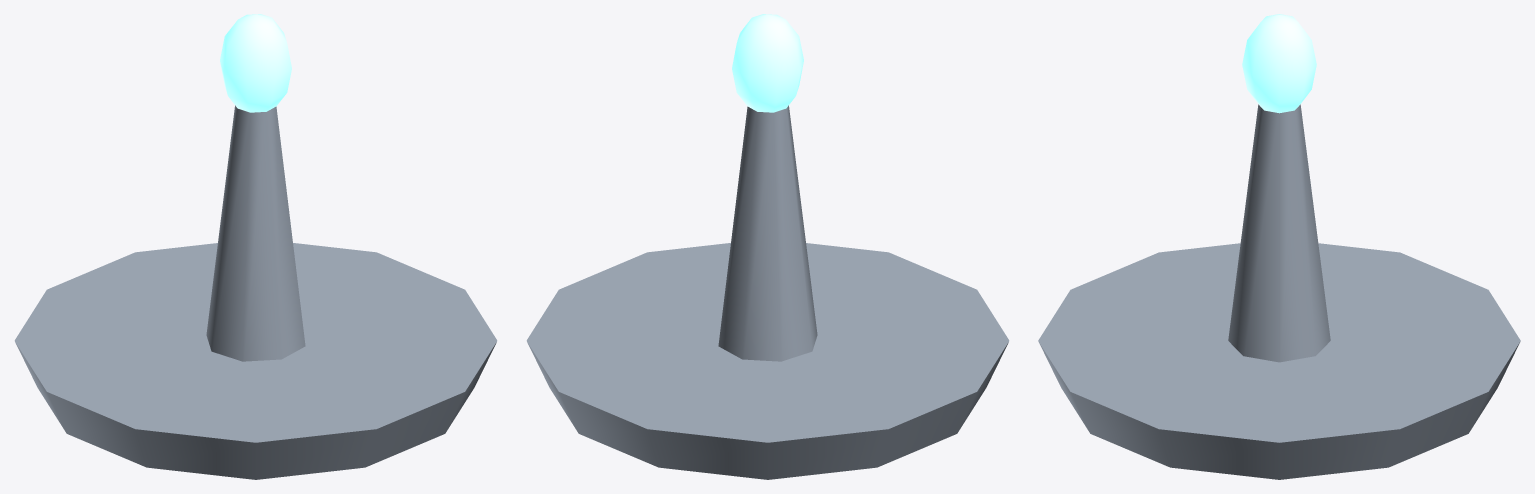
Rendered from fountain_plaza.glb.
3 renders of one model, left to right at view 1: azimuth 30°, elevation 25°; view 2: azimuth 150°, elevation 25°; view 3: azimuth 270°, elevation 25°, orthographic.
Parts seen in each view (by area): view 1: fountain_stone, fountain_crystal; view 2: fountain_stone, fountain_crystal; view 3: fountain_stone, fountain_crystal.
Part boxes in pixels (x1,y1,x2,y2): fountain_stone: [14, 105, 497, 479]; fountain_crystal: [220, 14, 291, 112]; fountain_stone: [526, 105, 1009, 479]; fountain_crystal: [732, 14, 803, 112]; fountain_stone: [1038, 104, 1520, 479]; fountain_crystal: [1242, 14, 1316, 113].
Size of the model in its own units: 8.4 by 7.15 by 8.4.
